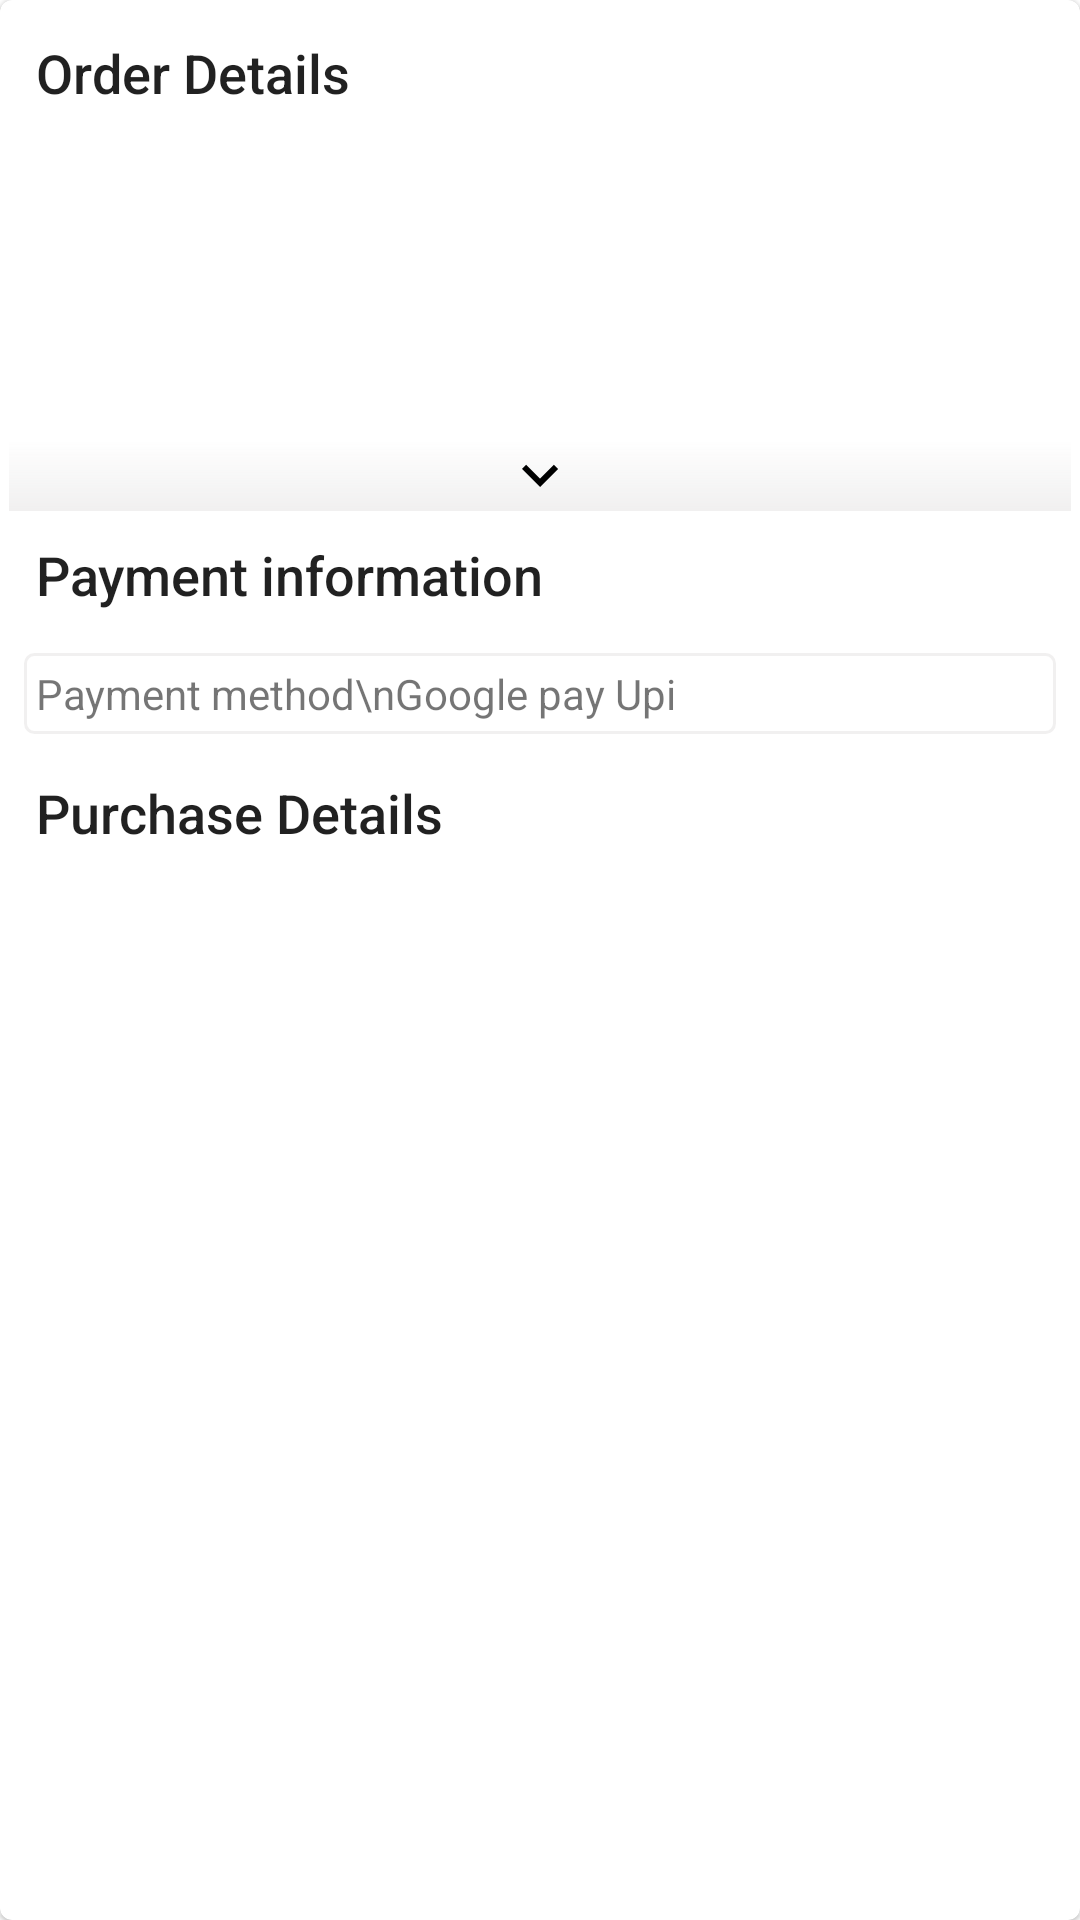

Point at icon controls on the screen. Image size 1080px x 1920px, points as (x=x, y=y).
down arrow: (x=540, y=476)
